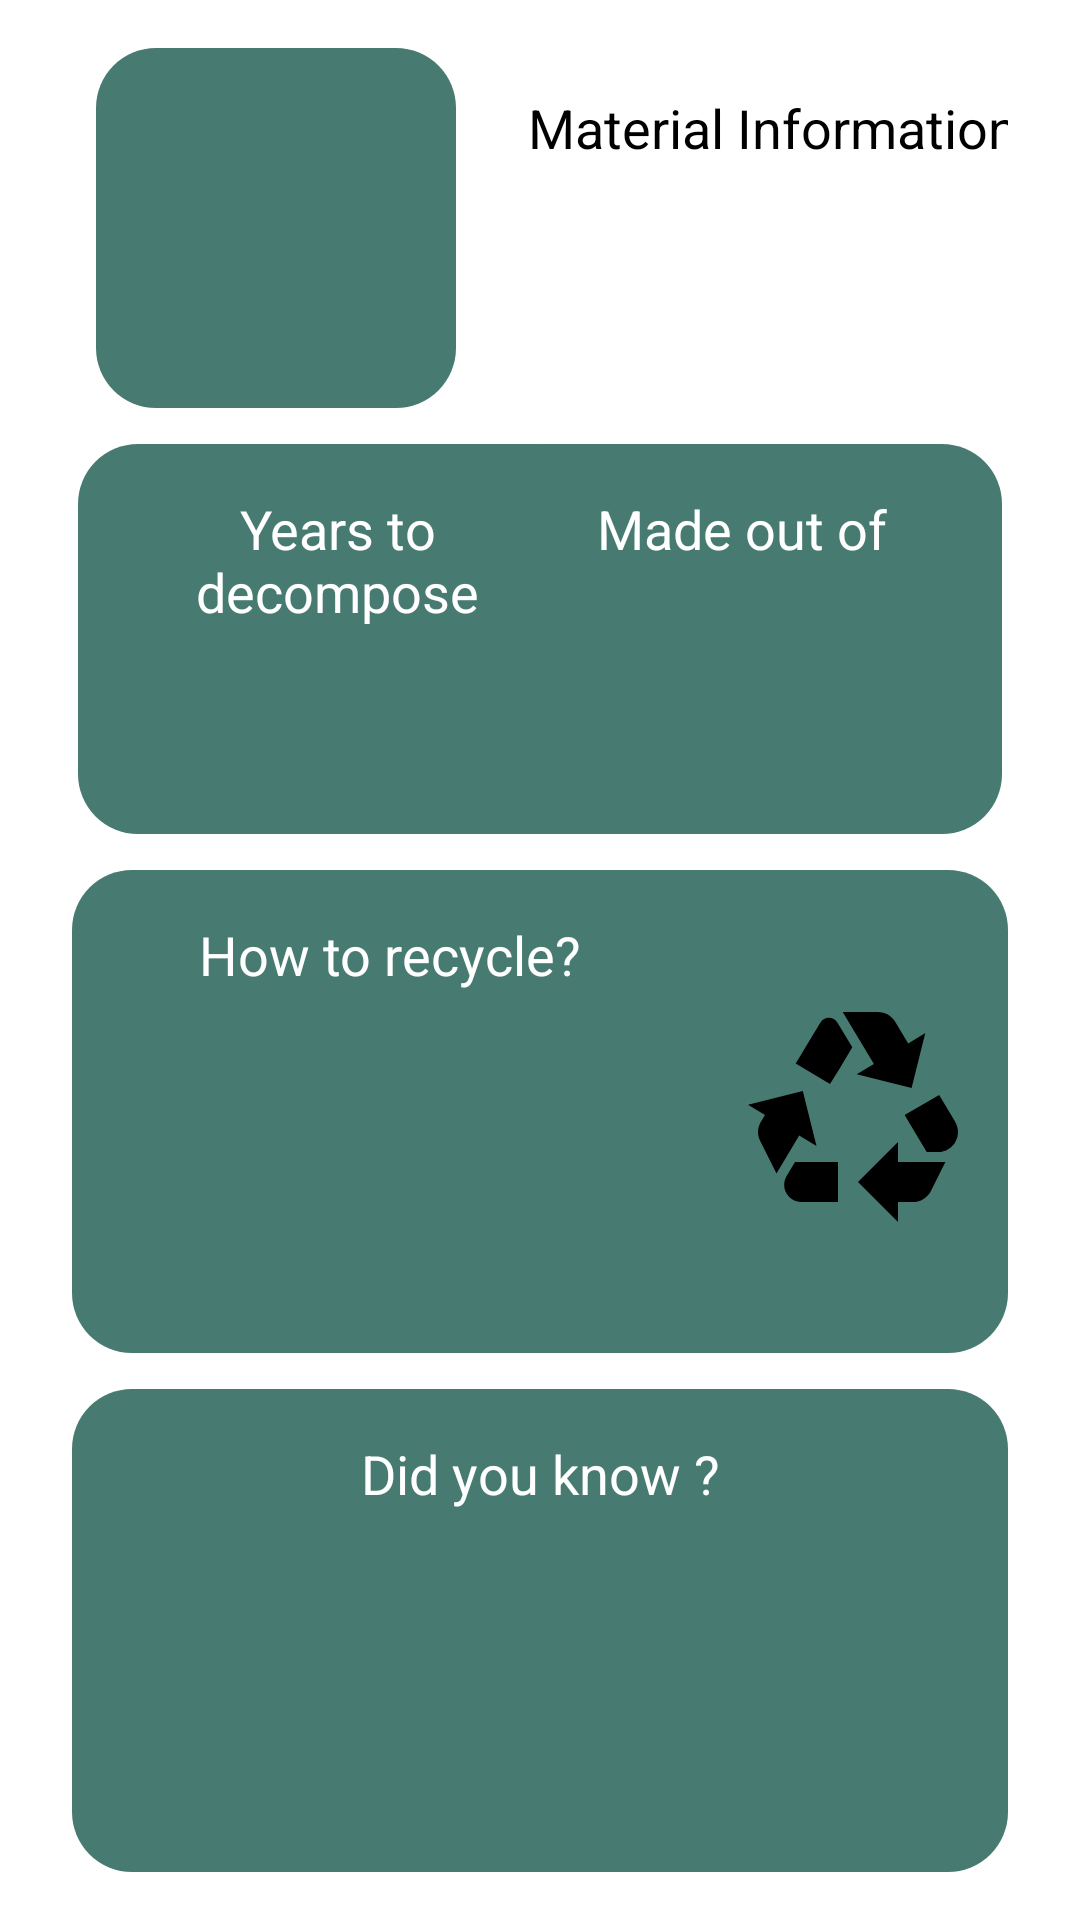

Screen size 1080px×1920px. Icon name, then its center in pixels as (x=x, y=y):
recycling: (x=853, y=1117)
